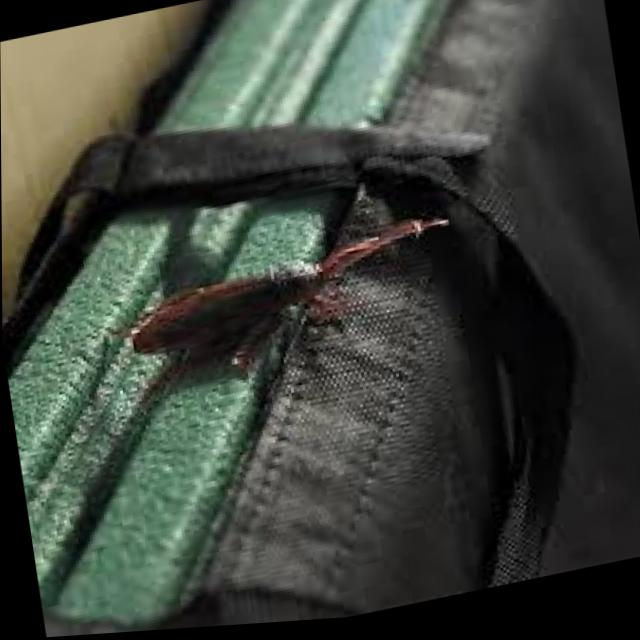Cockroach: (97, 182, 493, 437)
